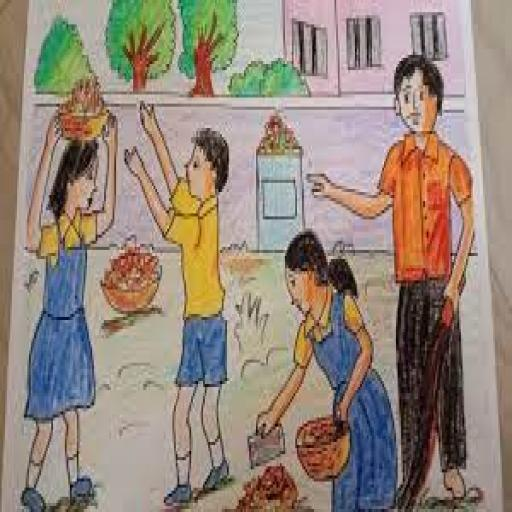person: (305, 50, 476, 509), (8, 71, 122, 509), (243, 217, 402, 509), (126, 93, 237, 509)
